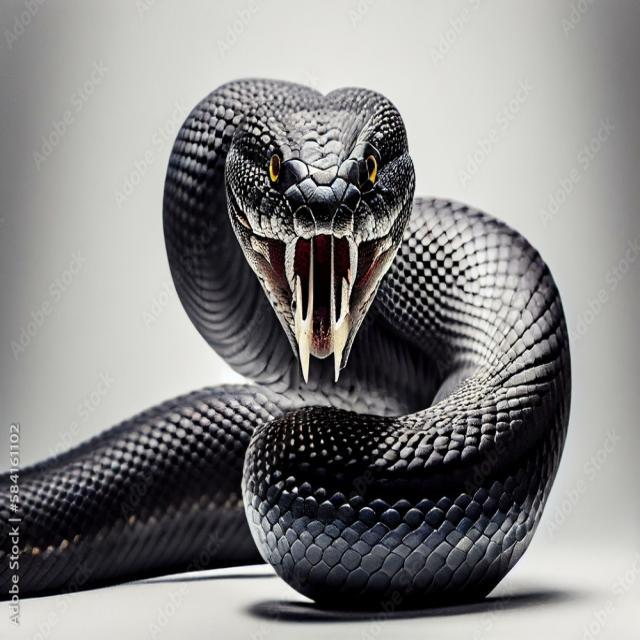Snake: (25, 62, 582, 640)
